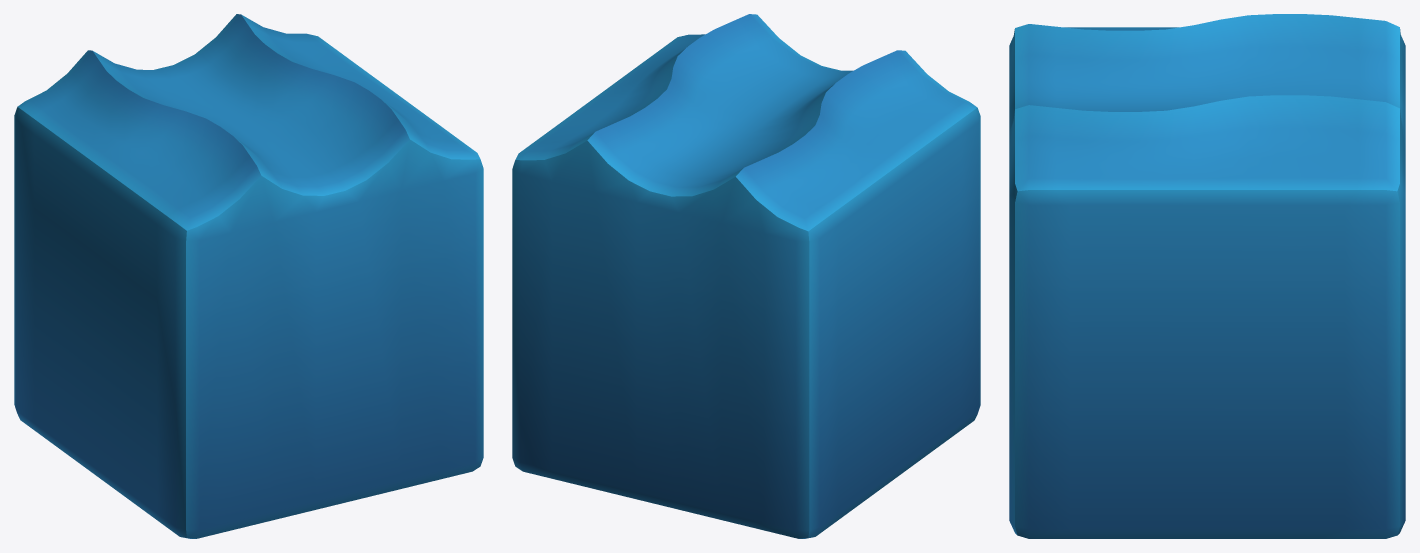
The model's file is water.glb.
3 renders of one model, left to right at view 1: azimuth 30°, elevation 25°; view 2: azimuth 150°, elevation 25°; view 3: azimuth 270°, elevation 25°, orthographic. The views are drawn at different scales.
Parts seen in each view (by area): view 1: water; view 2: water; view 3: water.
Boxes of the visible parts, bbox=[...] form: water: bbox=[14, 14, 483, 538]; water: bbox=[512, 14, 980, 538]; water: bbox=[1009, 14, 1405, 538].
Bounding box in the file's own units: 2 × 2.23 × 2.
Materials: 1 (1 with a texture image).
